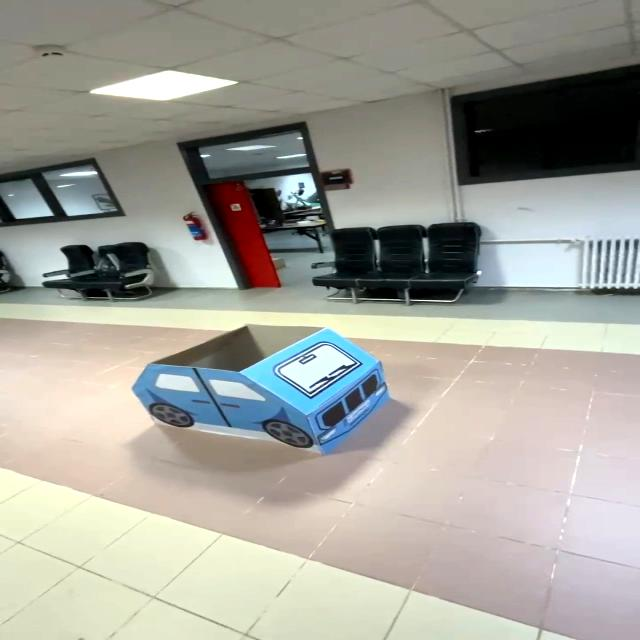blue_car: (112, 313, 411, 476)
